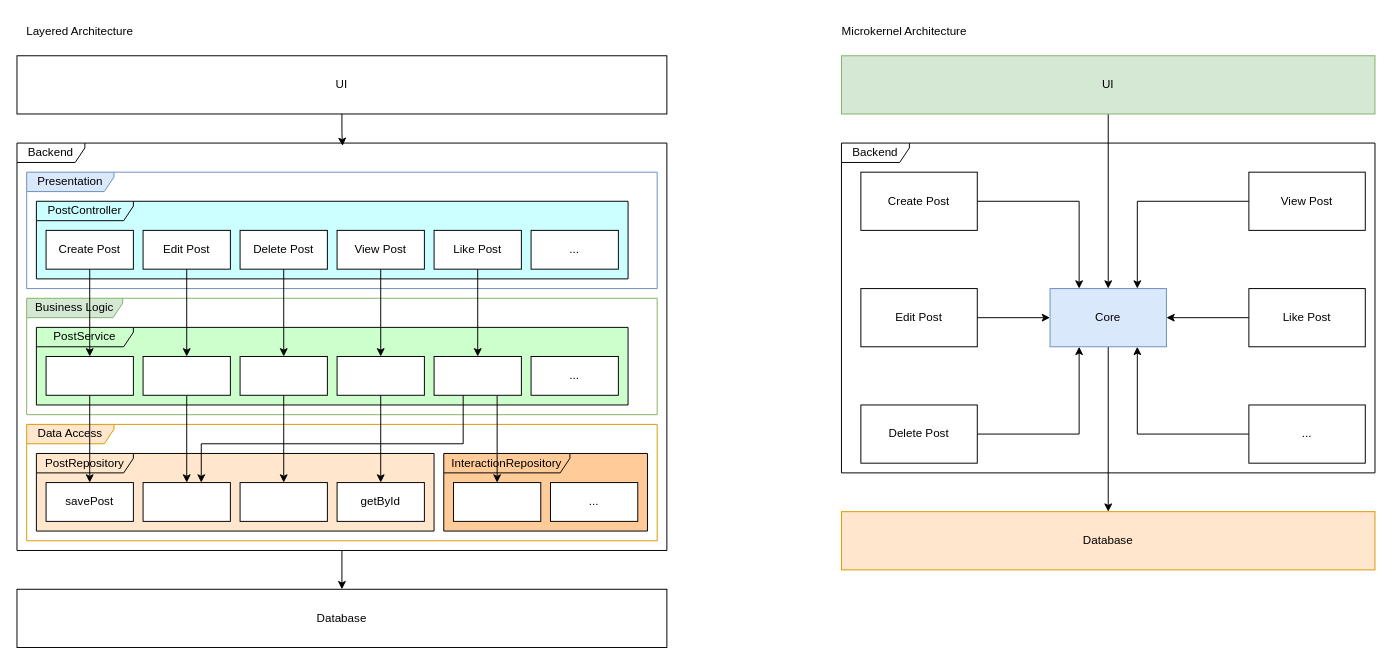
Some shapes in this 1392 by 664 pixel diagram are drawn without their labels. The centre of each missing label's shape, as x and y in pixels:
createPost: pixel 89 375
deleteById: pixel 283 501
deletePostById: pixel 283 375
editPostById: pixel 186 375
getPostById: pixel 380 375
likePostById: pixel 477 375
saveInteraction: pixel 497 501
updatePost: pixel 186 501
